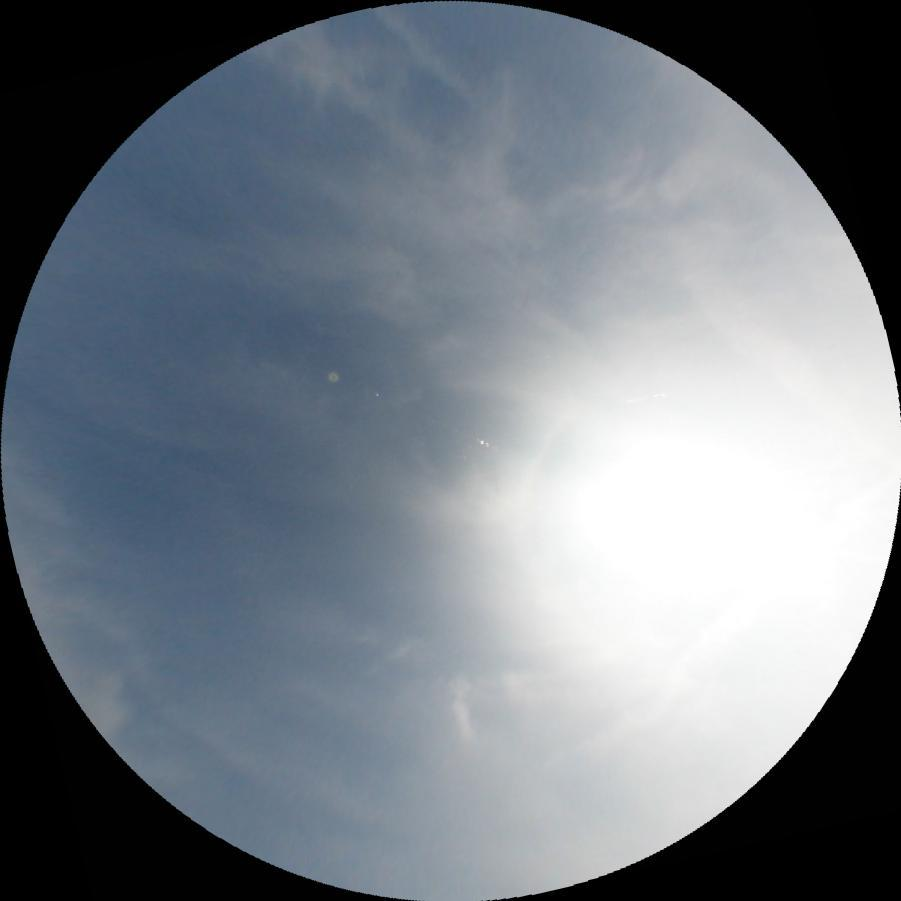contrail veryold: (367, 0, 473, 106)
sun: (595, 411, 821, 588)
